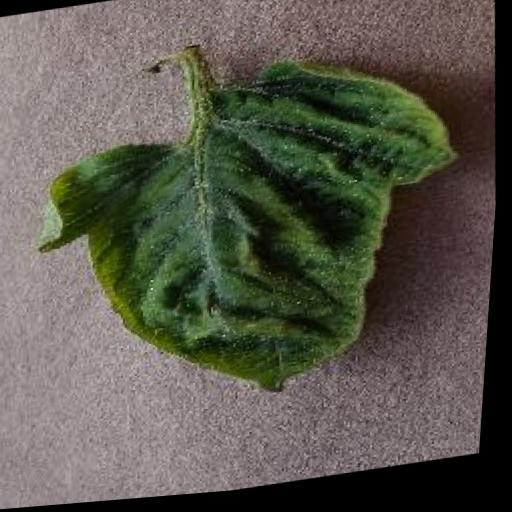Yellow Leaf Curl Virus: (19, 41, 484, 437)
